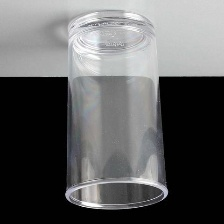glass: (59, 6, 171, 216)
